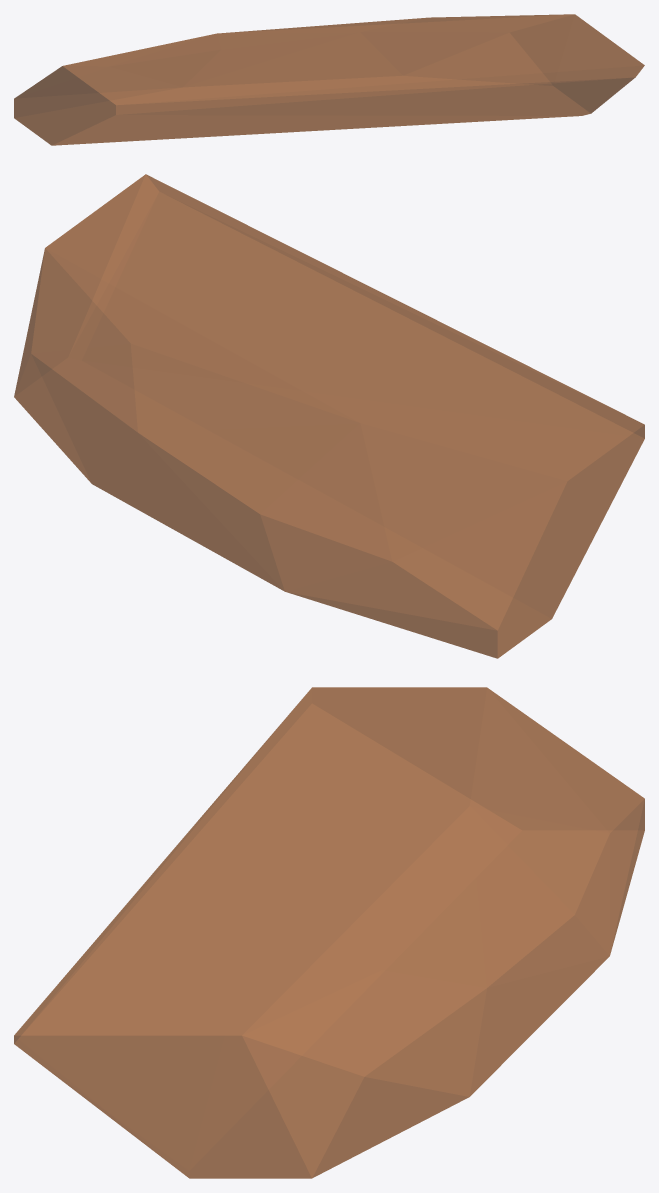
3 renders of one model, top to bottom at view 1: azimuth 30°, elevation 25°; view 2: azimuth 150°, elevation 25°; view 3: azimuth 270°, elevation 25°, orthographic. The views are drawn at different scales.
Visible parts, largest first — view 1: Shape_IndexedFaceSet.005_Shape_IndexedFaceSet.603; view 2: Shape_IndexedFaceSet.005_Shape_IndexedFaceSet.603; view 3: Shape_IndexedFaceSet.005_Shape_IndexedFaceSet.603.
Part boxes in pixels (x1,y1,x2,y2): Shape_IndexedFaceSet.005_Shape_IndexedFaceSet.603: (14,14,644,145); Shape_IndexedFaceSet.005_Shape_IndexedFaceSet.603: (14,174,644,658); Shape_IndexedFaceSet.005_Shape_IndexedFaceSet.603: (14,687,644,1178).
Bounding box in the file's own units: 0.0875 × 0.0168 × 0.0671.
